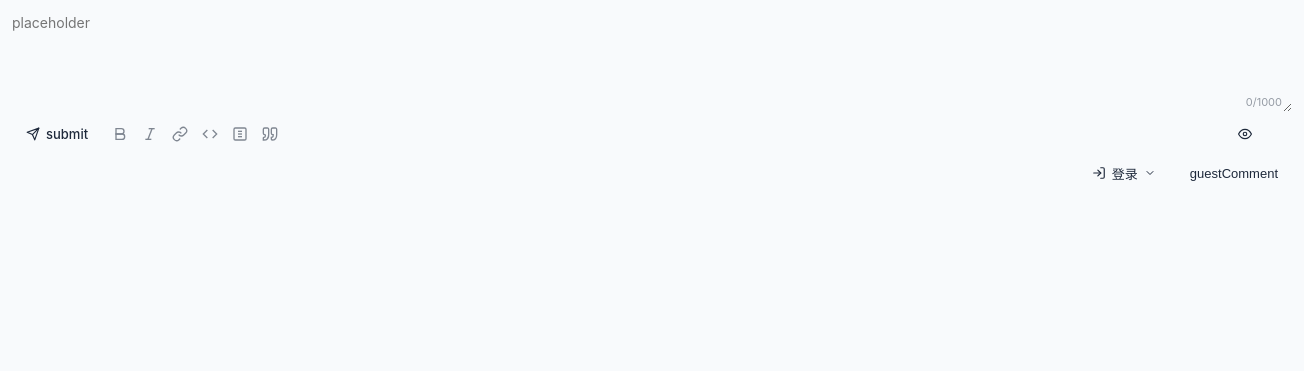
Test case: TkSubmit.vue › activates guest mode when the toggle button is clicked
The image size is (1304, 371).
Click the button with class "tk-btn-guest-toggle": (1234, 173) [1176, 160, 1292, 187]
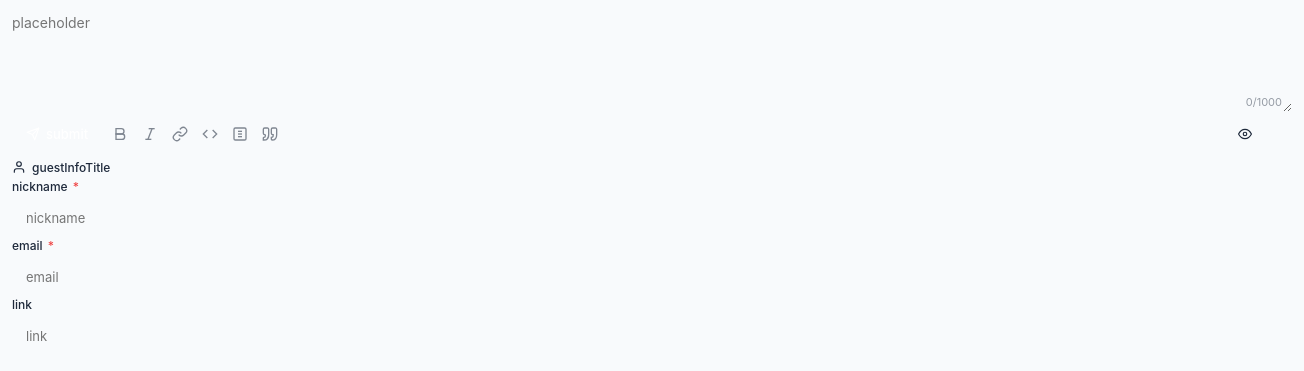
Check: the element with class "tk-guest-info" is shown, box [12, 158, 1292, 354]
